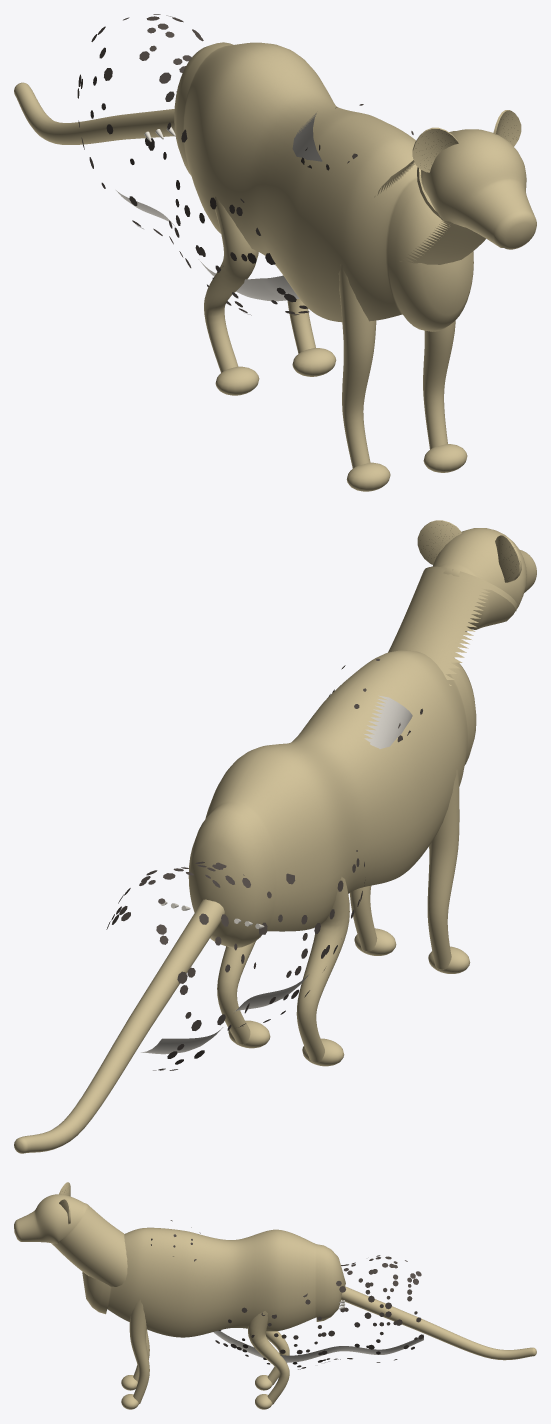
File: other-cheetah.glb
3 renders of one model, top to bottom at view 1: azimuth 30°, elevation 25°; view 2: azimuth 150°, elevation 25°; view 3: azimuth 270°, elevation 25°, orthographic. The views are drawn at different scales.
Parts seen in each view (by area): view 1: cheetah; view 2: cheetah; view 3: cheetah.
Part boxes in pixels (left/top/right/bottom): cheetah: left=14, top=14, right=536, bottom=491; cheetah: left=14, top=520, right=536, bottom=1153; cheetah: left=14, top=1182, right=536, bottom=1409.
Size of the model in its own units: 11127 by 34857 by 79932.
Materials: 6 (3 with a texture image).
